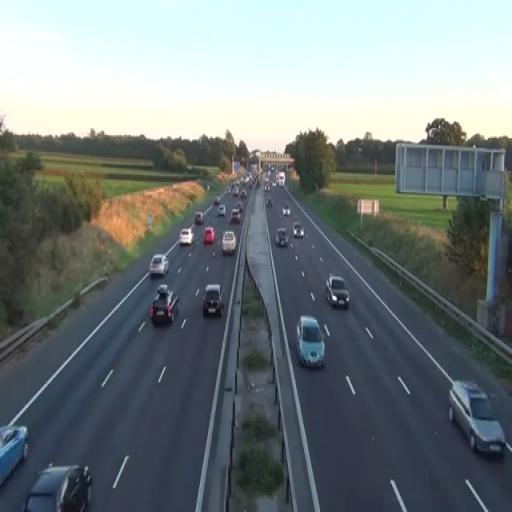Car: (448, 379, 506, 459), (23, 463, 93, 512), (0, 424, 30, 487), (296, 315, 326, 369), (149, 284, 180, 326), (324, 274, 350, 309), (203, 284, 224, 318), (148, 254, 170, 278), (222, 230, 236, 255), (180, 227, 194, 245), (230, 204, 242, 224), (276, 228, 288, 248), (202, 227, 216, 244), (293, 222, 304, 239), (216, 204, 226, 218)
